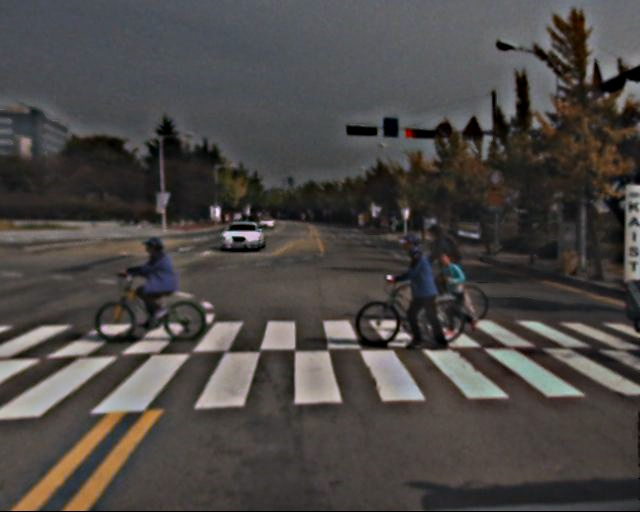person: (395, 236, 448, 353), (420, 225, 470, 331), (143, 235, 188, 326), (438, 252, 472, 333)
